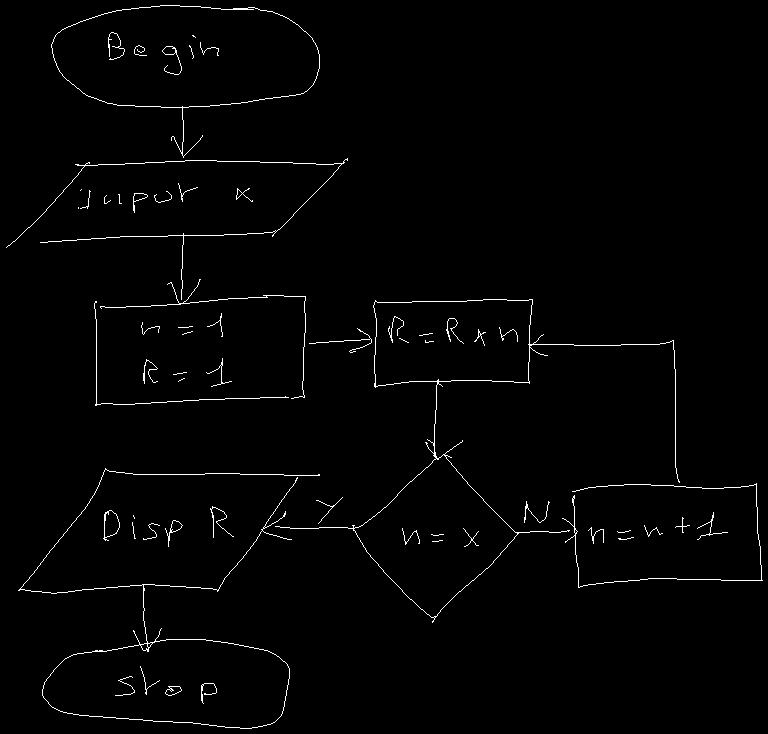arrow: (528, 334, 679, 482), (425, 379, 462, 459), (261, 511, 354, 539), (167, 233, 200, 304), (133, 584, 161, 651), (171, 106, 202, 157), (309, 328, 371, 352), (516, 518, 577, 542)
data: (18, 468, 319, 593), (6, 158, 347, 247)
decision: (352, 454, 518, 622)
process: (94, 295, 305, 405), (572, 483, 762, 587), (373, 299, 532, 387)
terminator: (51, 5, 319, 107), (42, 639, 289, 728)
text: (141, 313, 231, 386), (103, 506, 233, 546), (78, 183, 252, 212), (108, 32, 218, 74), (588, 512, 727, 543), (388, 316, 517, 345), (115, 666, 216, 703), (402, 528, 478, 546), (316, 497, 342, 523), (524, 501, 549, 522)
